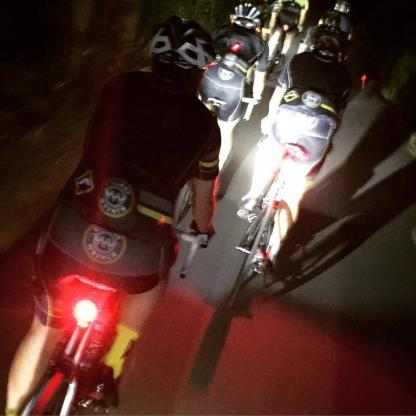Helmet: (145, 16, 228, 88), (306, 23, 357, 60), (228, 0, 263, 35), (331, 2, 355, 18)
